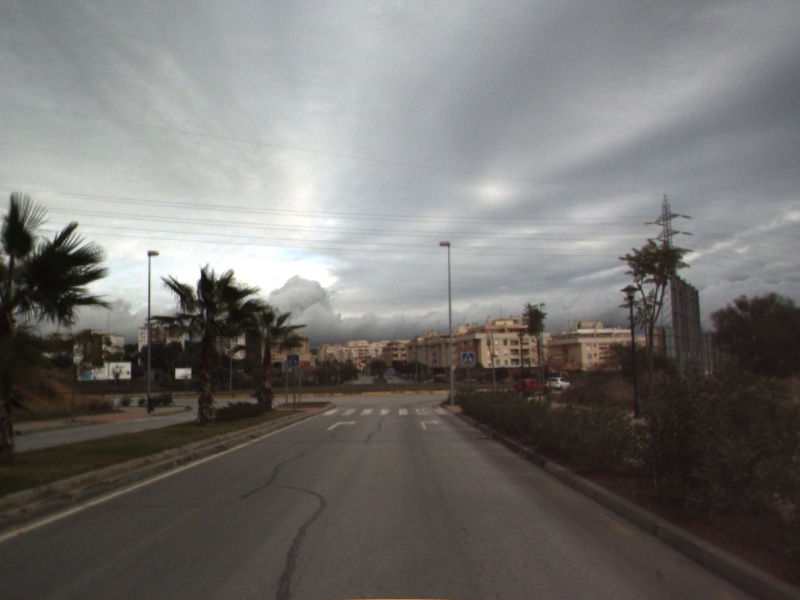RIGHT: (326, 418, 359, 432), (419, 417, 442, 432)
